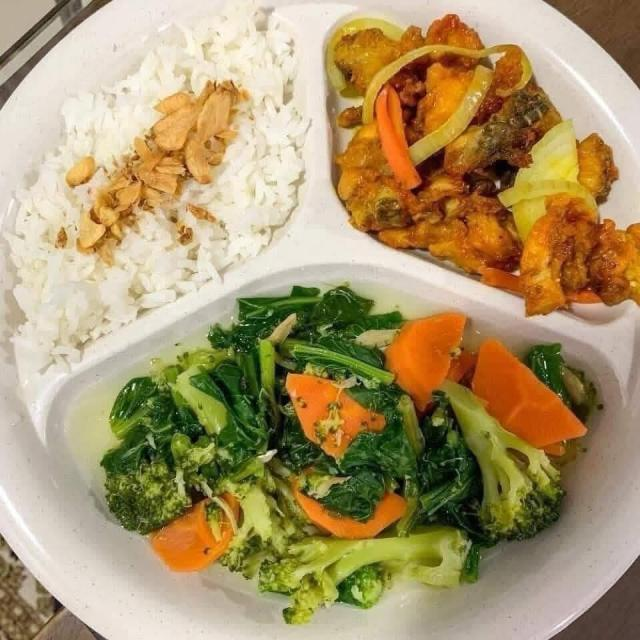Chicken: (332, 14, 639, 315)
Plate: (242, 0, 639, 639)
Rice: (8, 7, 309, 395)
Vegetables: (106, 285, 593, 626)
